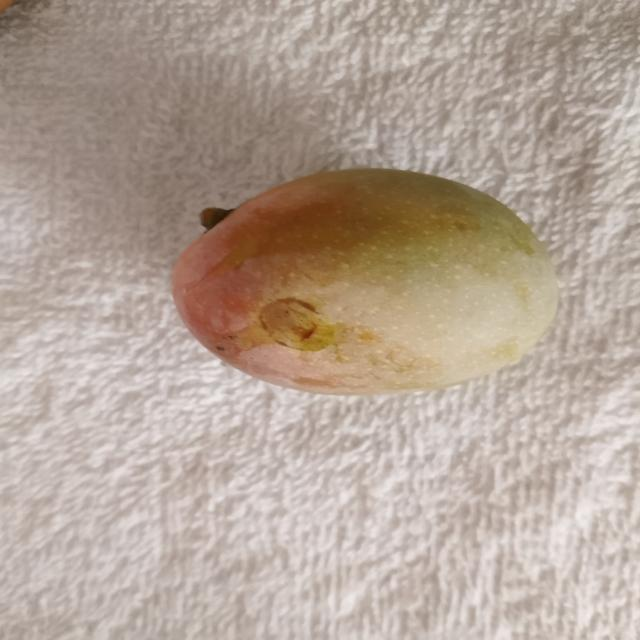mango: (168, 166, 564, 394)
